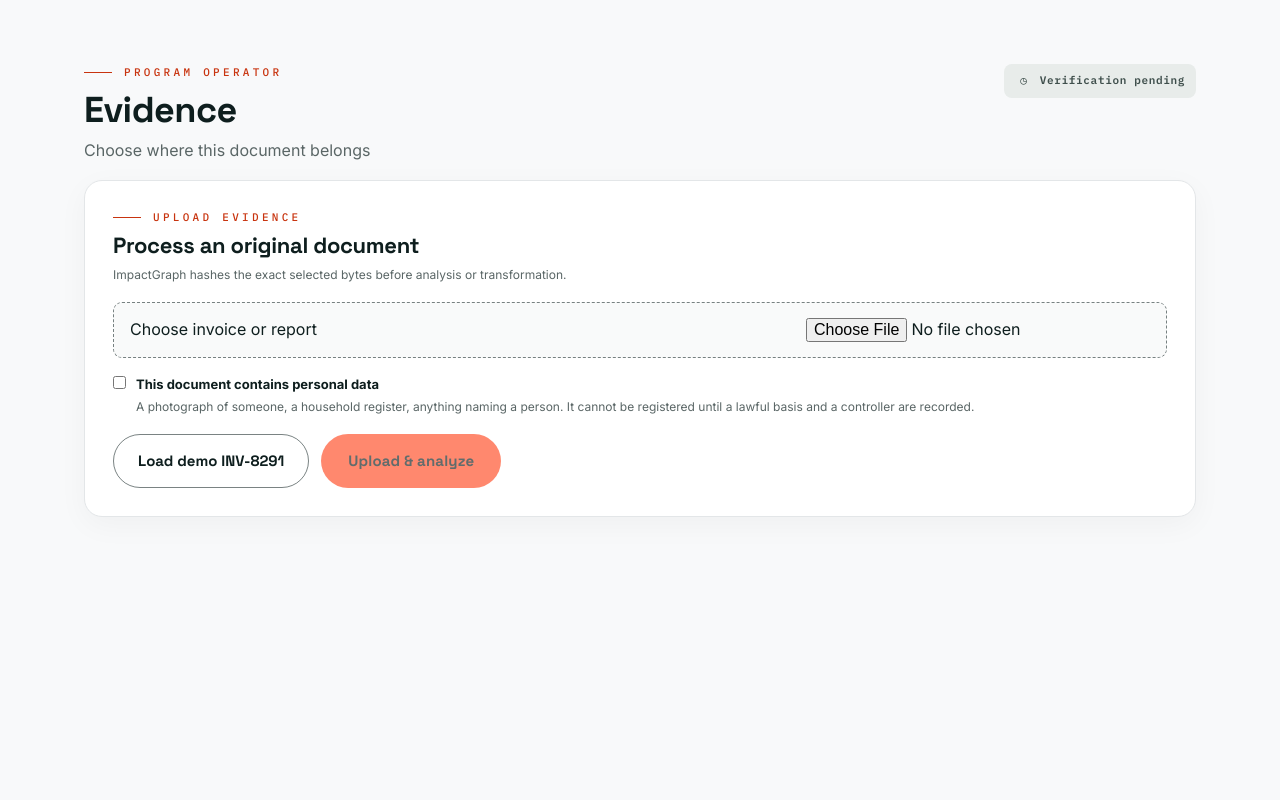
Test: Operator evidence workflow › does not claim success while the operation is only SUBMITTED
This screenshot has width=1280, height=800.
What coordinates should you click on to do the following:
click the button "Load demo INV-8291"
I would click on:
 (211, 461)
Its box is x1=113 y1=434 x2=309 y2=488.
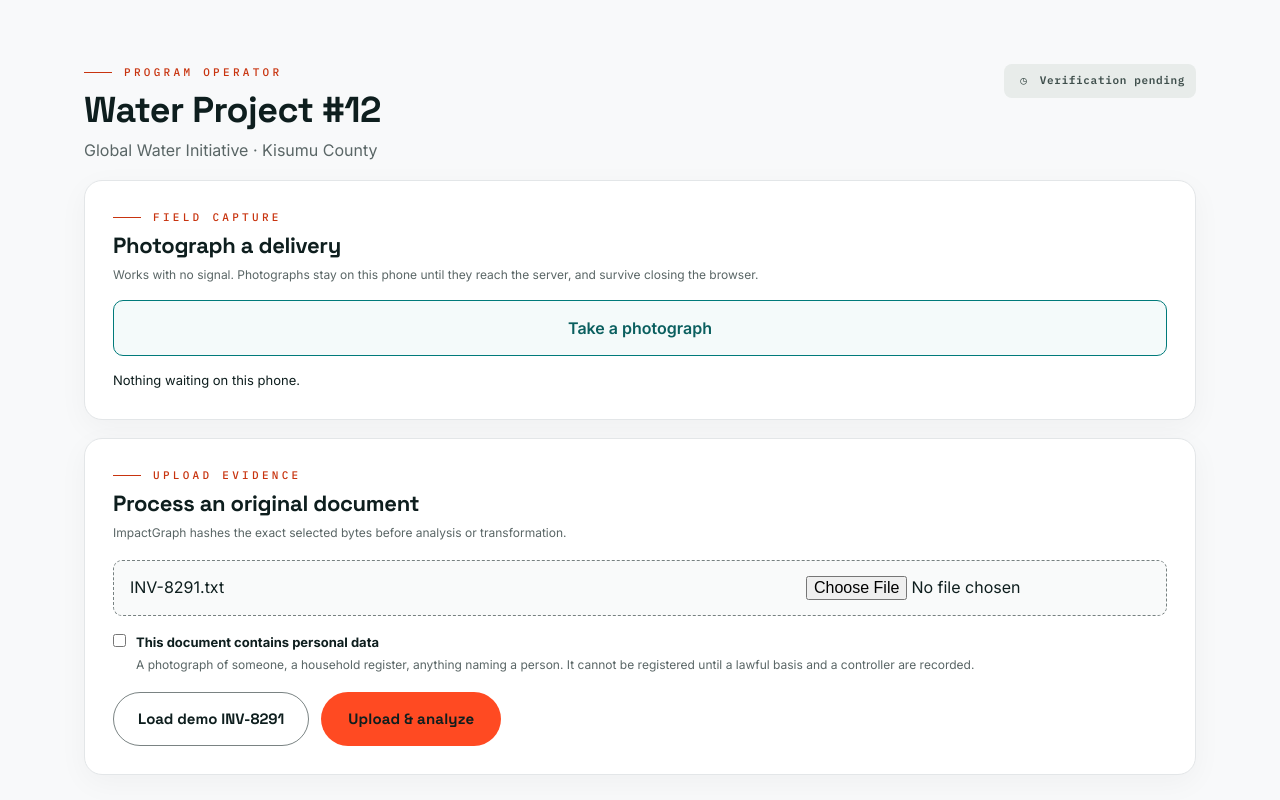
Now the button "Upload & analyze" is enabled
What coordinates should you click on to do the following:
click the button "Upload & analyze"
I would click on:
 (411, 719)
Its box is x1=321 y1=692 x2=501 y2=746.
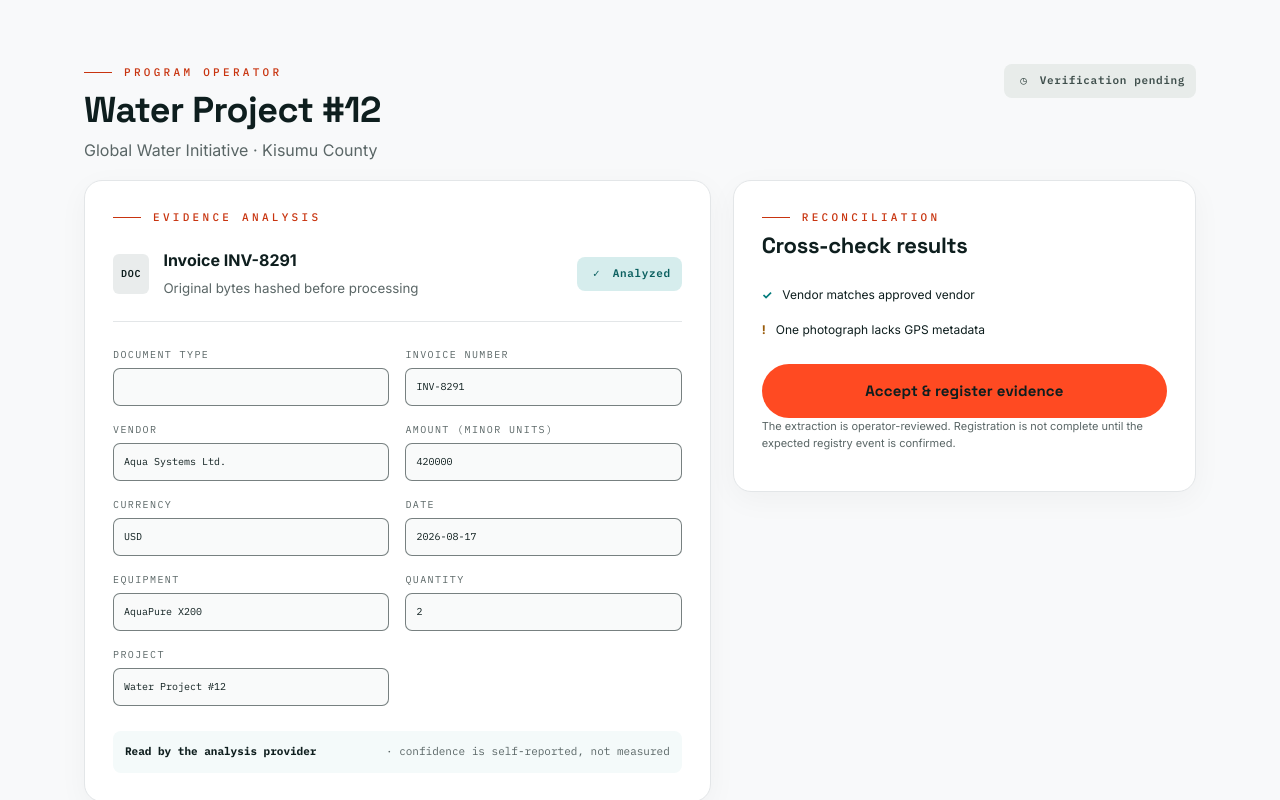
Now the text "Invoice INV-8291" is shown, box x1=163 y1=250 x2=297 y2=270
What coordinates should you click on to do the following:
click the button "Accept & register evidence"
I would click on:
 (964, 390)
Its box is x1=762 y1=364 x2=1167 y2=418.
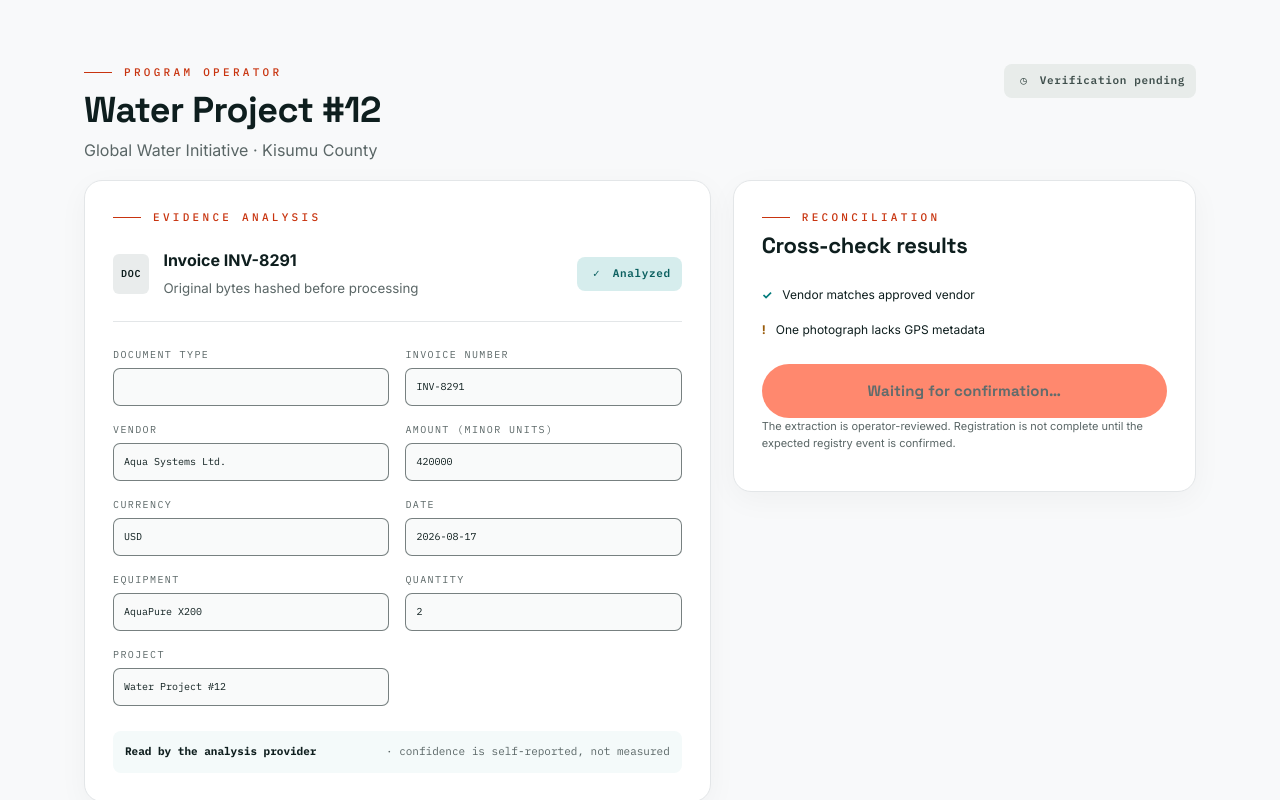
Now the button "Waiting for confirmation…" is shown, box x1=762 y1=364 x2=1167 y2=418
